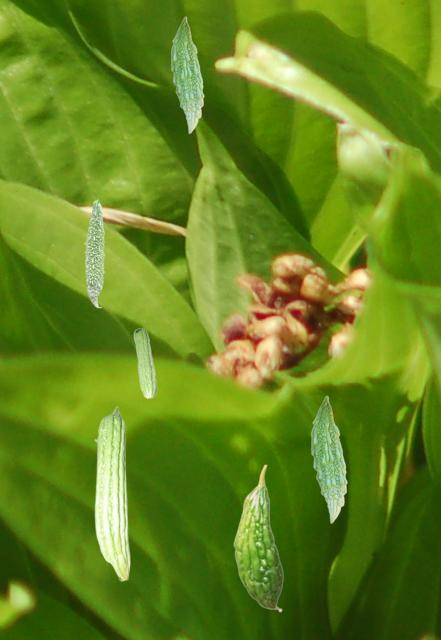ampalaya: (233, 464, 284, 612), (94, 406, 130, 581), (310, 395, 347, 524), (170, 16, 204, 134), (84, 198, 105, 308), (133, 327, 157, 399)
